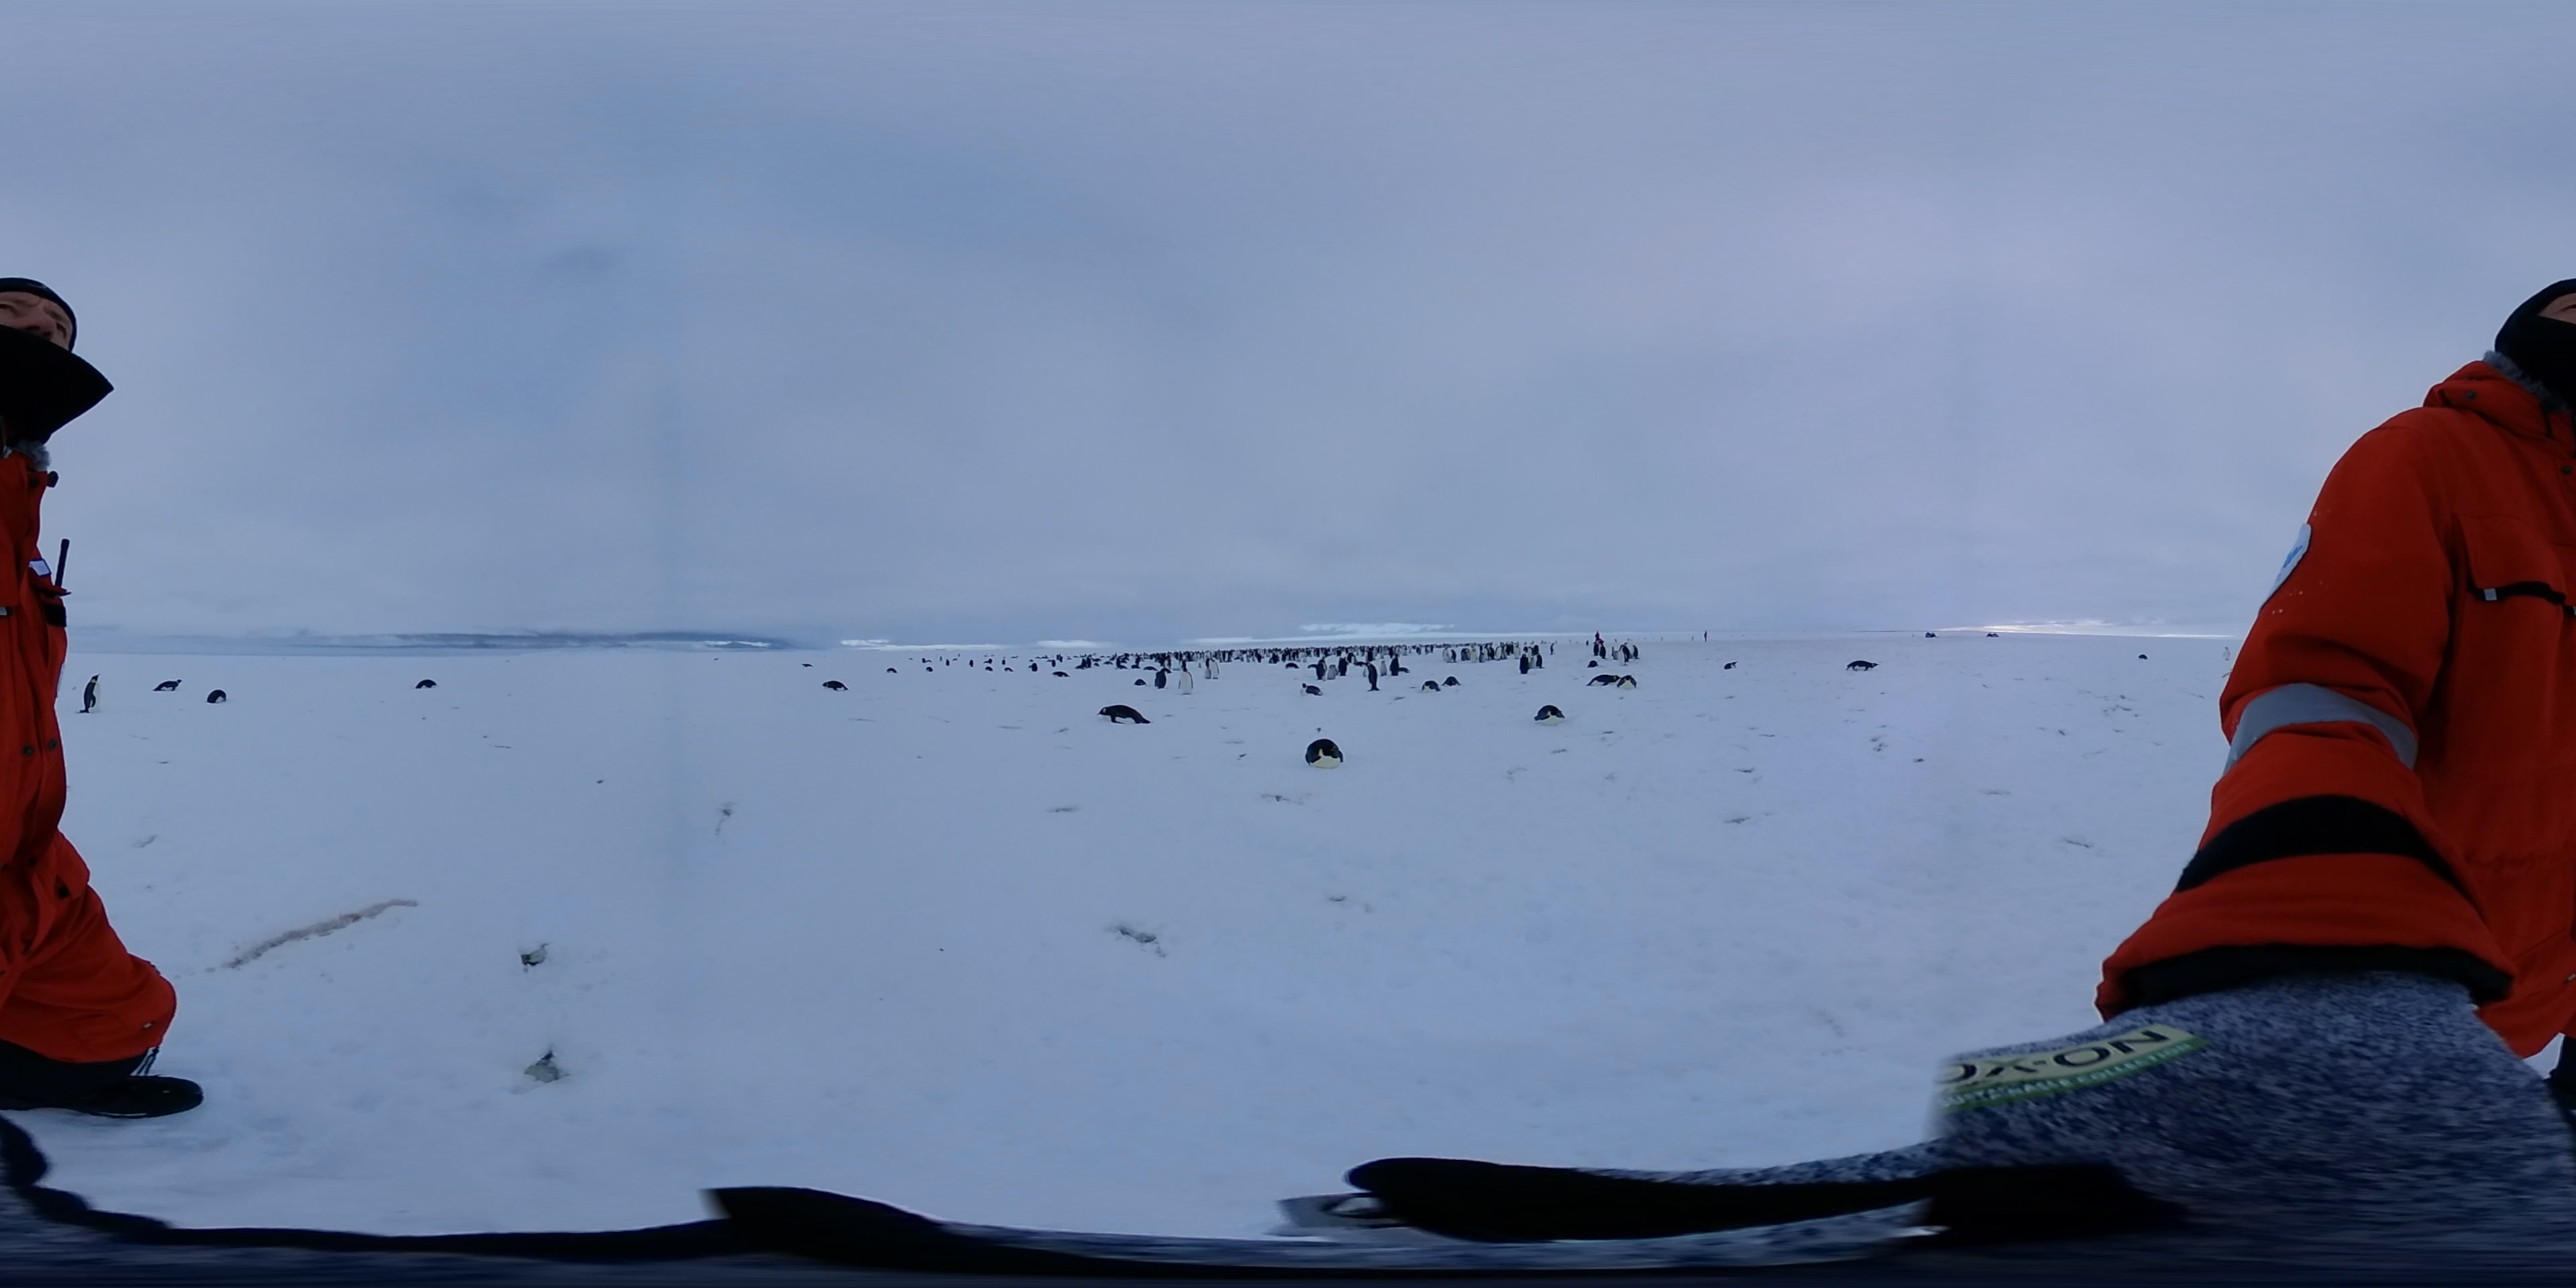adult_standing_penguin: (77, 670, 105, 715), (1176, 669, 1191, 698), (1390, 652, 1401, 678), (1211, 657, 1221, 682), (1520, 654, 1529, 675)
adult_toboggan_penguin: (1301, 736, 1347, 769), (1096, 705, 1152, 728), (1529, 705, 1571, 728), (1362, 662, 1382, 693), (1585, 674, 1620, 690), (1843, 657, 1876, 674), (1615, 674, 1641, 692), (151, 678, 184, 692), (204, 688, 230, 705), (818, 680, 849, 692), (1298, 682, 1321, 697), (1416, 678, 1437, 693), (412, 678, 435, 692), (1439, 675, 1462, 688), (1722, 660, 1740, 674)
juvenile_penguin: (1327, 669, 1336, 682)
researcher: (2080, 271, 2576, 1102), (0, 253, 209, 1189)
